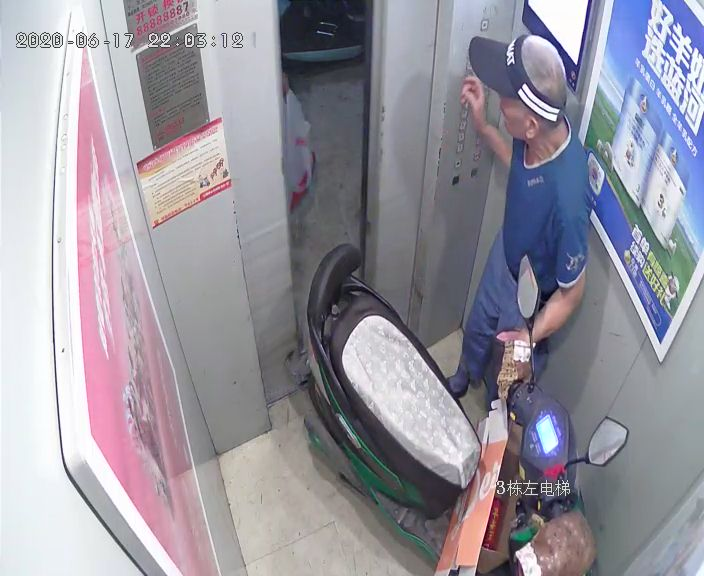Electric-bicycle: (306, 241, 631, 576)
